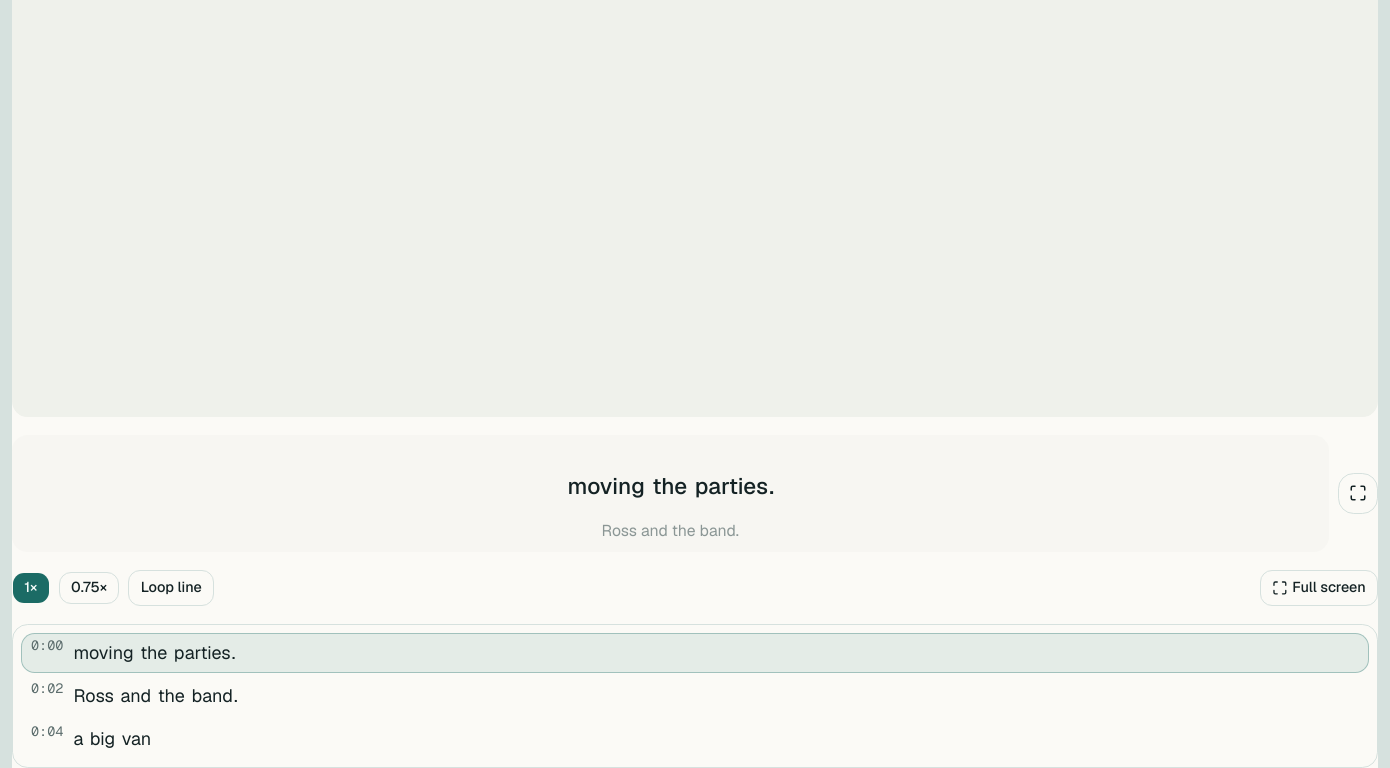
the popover, on a desktop pointer › shows the video's own meaning first, labelled here
(page scrolled)
Hover over the button "band": [212, 696] box [190,681,234,710]
Wait 250 ms
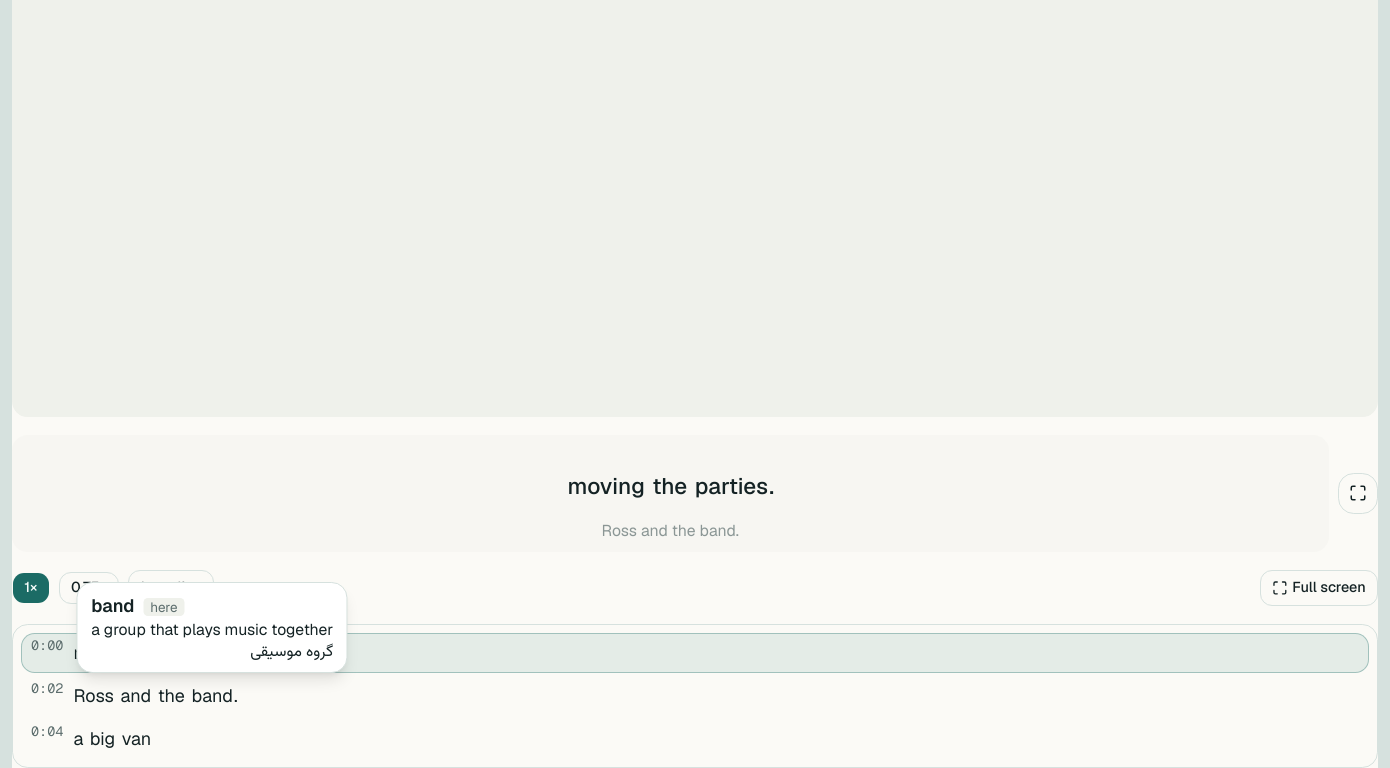
expect the text with test id "word-popover-here" reads "here": met, box [150,598,178,616]
expect the tooltip with test id "word-popover" shows "a group that plays music together": met, box [91,619,333,640]
